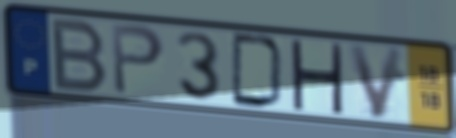3: (175, 30, 223, 102)
B: (50, 16, 111, 95)
D: (229, 30, 288, 112)
H: (287, 37, 345, 117)
P: (108, 21, 167, 98)
V: (345, 42, 407, 122)
